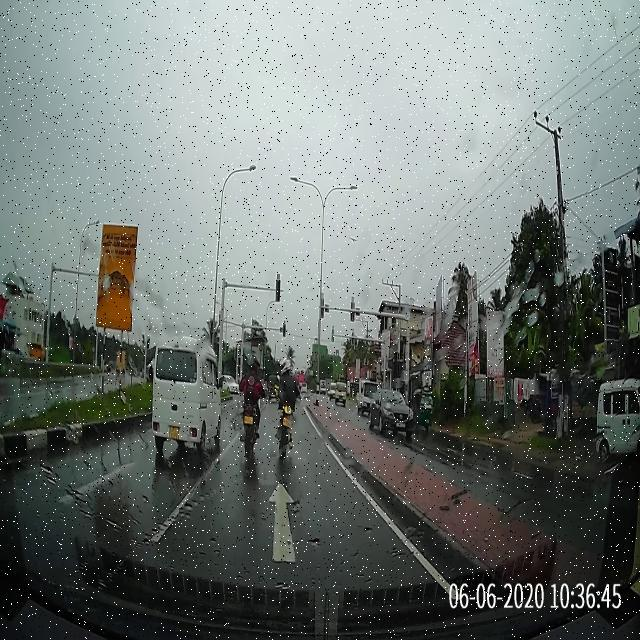forward: (132, 484, 439, 574)
